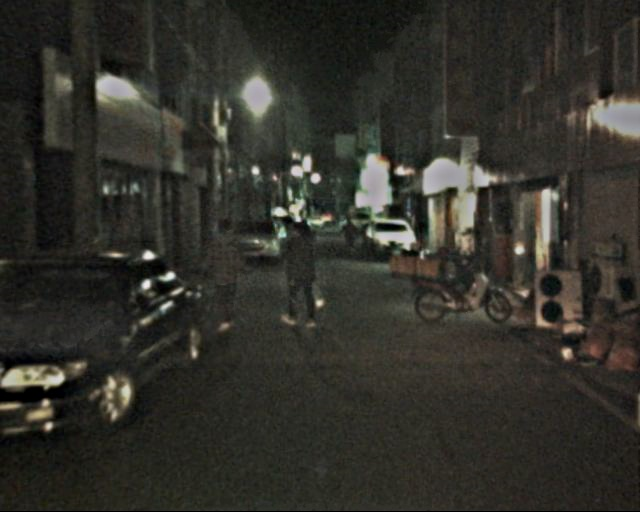person: (200, 217, 249, 336), (278, 223, 323, 333), (341, 218, 358, 254)
